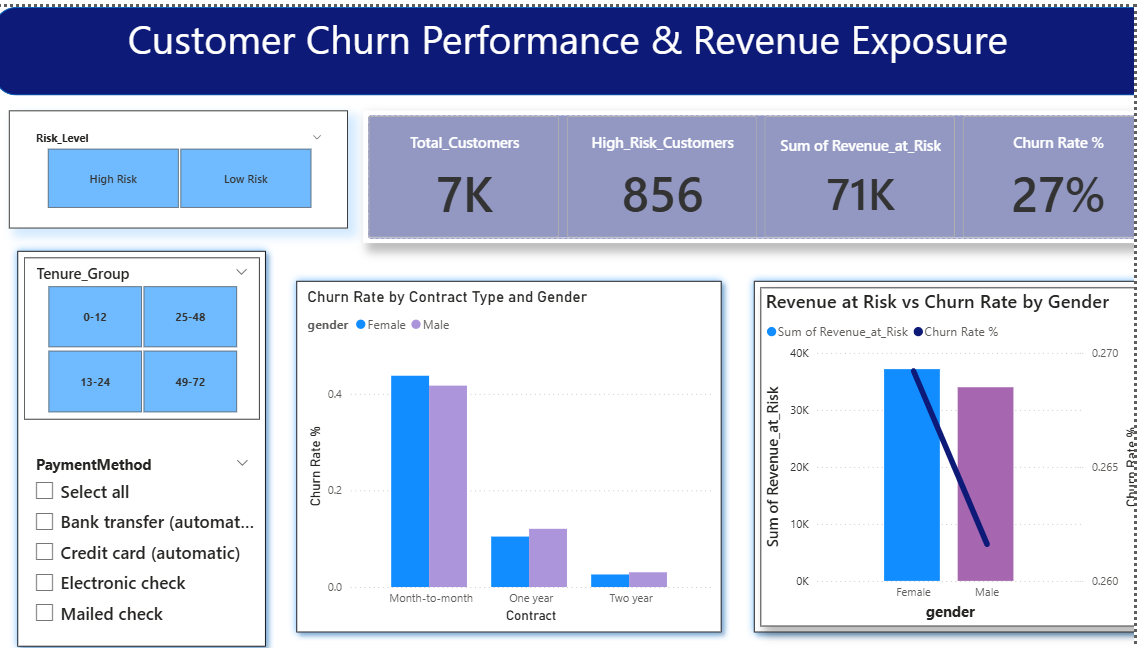

This screenshot's page, from the dashboard's own definition file:
{"tool":"powerbi","page":{"name":"Page 1","canvas":[1280,720],"ordinal":0},"visuals":[{"type":"shape","box":[-80,-176,1360,896],"z":0},{"type":"shape","box":[0,0,1264,96],"z":1000},{"type":"cardVisual","fields":{"Data":["WA_Fn-UseC_-Telco-Customer-Chur.Total_Customers","WA_Fn-UseC_-Telco-Customer-Chur.High_Risk_Customers","Sum(WA_Fn-UseC_-Telco-Customer-Chur.Revenue_at_Risk)","WA_Fn-UseC_-Telco-Customer-Chur.Churn Rate %"]},"box":[400,112,864,144],"z":2000},{"type":"shape","box":[16,256,288,448],"z":3000},{"type":"slicer","fields":{"Values":["WA_Fn-UseC_-Telco-Customer-Chur.Tenure_Group"]},"box":[32,272,256,176],"z":4000},{"type":"slicer","fields":{"Values":["WA_Fn-UseC_-Telco-Customer-Chur.PaymentMethod"]},"box":[32,480,256,208],"z":5000},{"type":"shape","box":[320,288,480,400],"z":6000},{"type":"shape","box":[784,288,448,400],"z":7000},{"type":"clusteredColumnChart","title":"Churn Rate by Contract Type and Gender","fields":{"Category":["WA_Fn-UseC_-Telco-Customer-Chur.Contract"],"Y":["WA_Fn-UseC_-Telco-Customer-Chur.Churn Rate %"],"Series":["WA_Fn-UseC_-Telco-Customer-Chur.gender"]},"box":[336,304,448,368],"z":8000},{"type":"lineClusteredColumnComboChart","title":"Revenue at Risk vs Churn Rate by Gender ","fields":{"Category":["WA_Fn-UseC_-Telco-Customer-Chur.gender"],"Y":["Sum(WA_Fn-UseC_-Telco-Customer-Chur.Revenue_at_Risk)"],"Y2":["WA_Fn-UseC_-Telco-Customer-Chur.Churn Rate %"]},"box":[800,304,416,368],"z":9000},{"type":"slicer","fields":{"Values":["WA_Fn-UseC_-Telco-Customer-Chur.Risk_Level"]},"box":[32,144,256,80],"z":10000},{"type":"textbox","box":[16,112,368,128],"z":11000},{"type":"slicer","fields":{"Values":["WA_Fn-UseC_-Telco-Customer-Chur.Risk_Level"]},"box":[32,128,336,96],"z":12000},{"type":"textbox","box":[48,0,1152,96],"z":13000}]}

Visuals, with their boxes in screenshot pixels (x1, y1, x2, y2), scaled from the page's 1280x720 canvas onto the 1142x648 screenshot:
shape: (x1=0, y1=0, x2=1141, y2=647)
shape: (x1=0, y1=0, x2=1128, y2=86)
cardVisual - WA_Fn-UseC_-Telco-Customer-Chur.Total_Customers x WA_Fn-UseC_-Telco-Customer-Chur.High_Risk_Customers: (x1=357, y1=101, x2=1128, y2=230)
shape: (x1=14, y1=230, x2=271, y2=634)
slicer - WA_Fn-UseC_-Telco-Customer-Chur.Tenure_Group: (x1=29, y1=245, x2=257, y2=403)
slicer - WA_Fn-UseC_-Telco-Customer-Chur.PaymentMethod: (x1=29, y1=432, x2=257, y2=619)
shape: (x1=286, y1=259, x2=714, y2=619)
shape: (x1=699, y1=259, x2=1099, y2=619)
"Churn Rate by Contract Type and Gender" clusteredColumnChart: (x1=300, y1=274, x2=699, y2=605)
"Revenue at Risk vs Churn Rate by Gender " lineClusteredColumnComboChart: (x1=714, y1=274, x2=1085, y2=605)
slicer - WA_Fn-UseC_-Telco-Customer-Chur.Risk_Level: (x1=29, y1=130, x2=257, y2=202)
textbox: (x1=14, y1=101, x2=343, y2=216)
slicer - WA_Fn-UseC_-Telco-Customer-Chur.Risk_Level: (x1=29, y1=115, x2=328, y2=202)
textbox: (x1=43, y1=0, x2=1071, y2=86)
